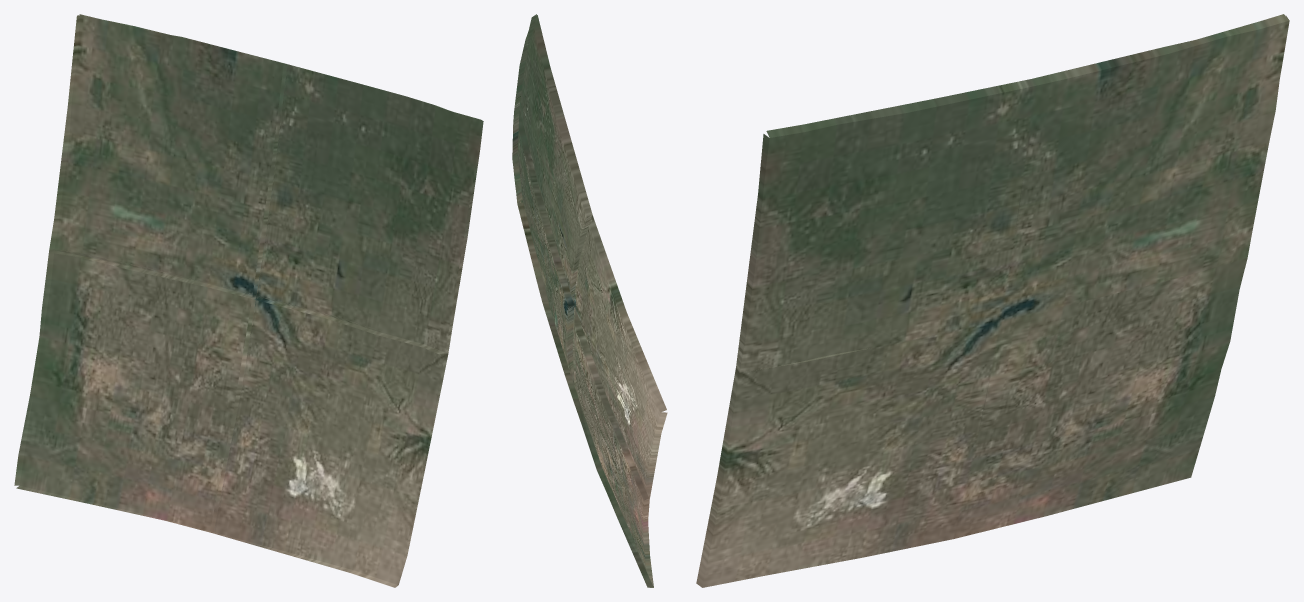
3 renders of one model, left to right at view 1: azimuth 30°, elevation 25°; view 2: azimuth 150°, elevation 25°; view 3: azimuth 270°, elevation 25°, orthographic. The views are drawn at different scales.
Size of the model in its own units: 898960 by 1208048 by 1240489.
1 material, 1 textured.
